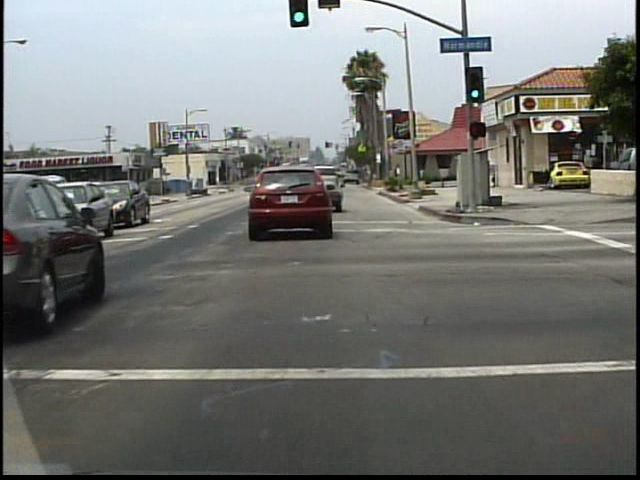person: (587, 149, 604, 193)
